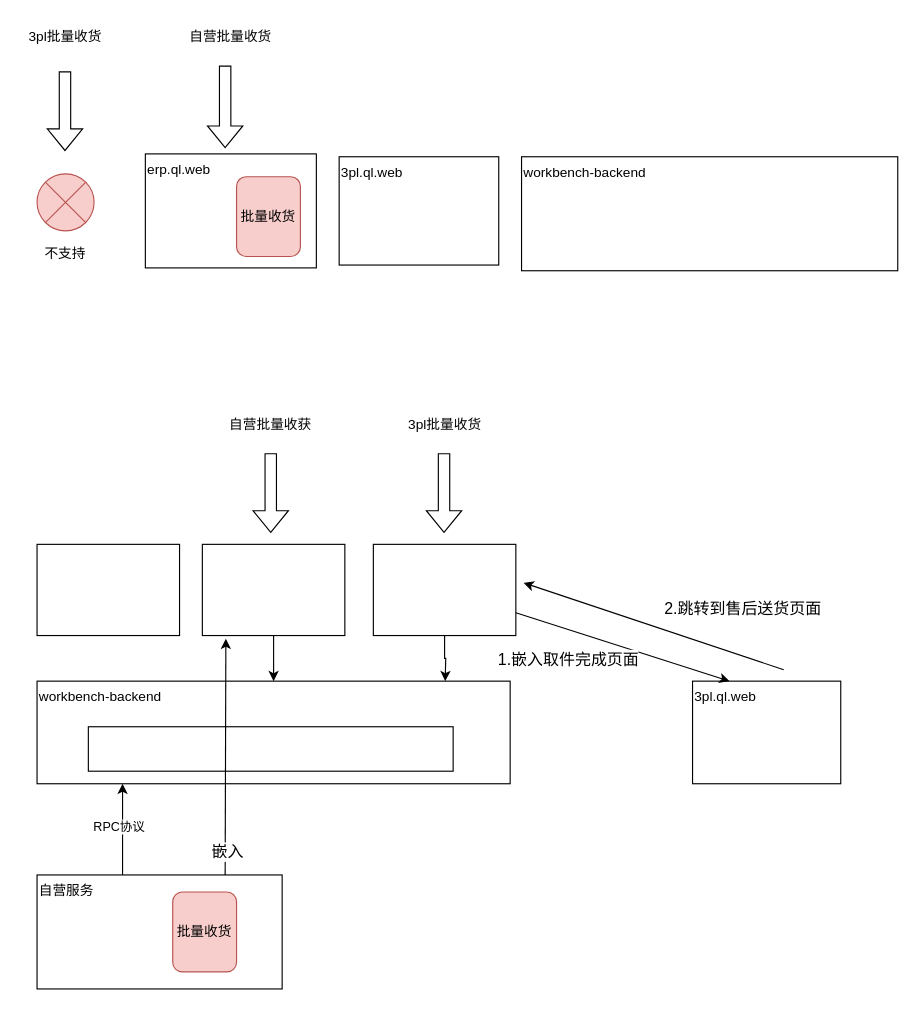
Image size: 918x1009. Some labels were removed from this diagram. The box of each missing label's shape, as (x1, y1, x2, y2) in pixels:
3pl工作台--前端: (372, 543, 516, 636)
接口代理: (87, 726, 453, 771)
站长工作台--前端: (201, 543, 345, 636)
终端工作台--前端: (36, 543, 180, 636)
